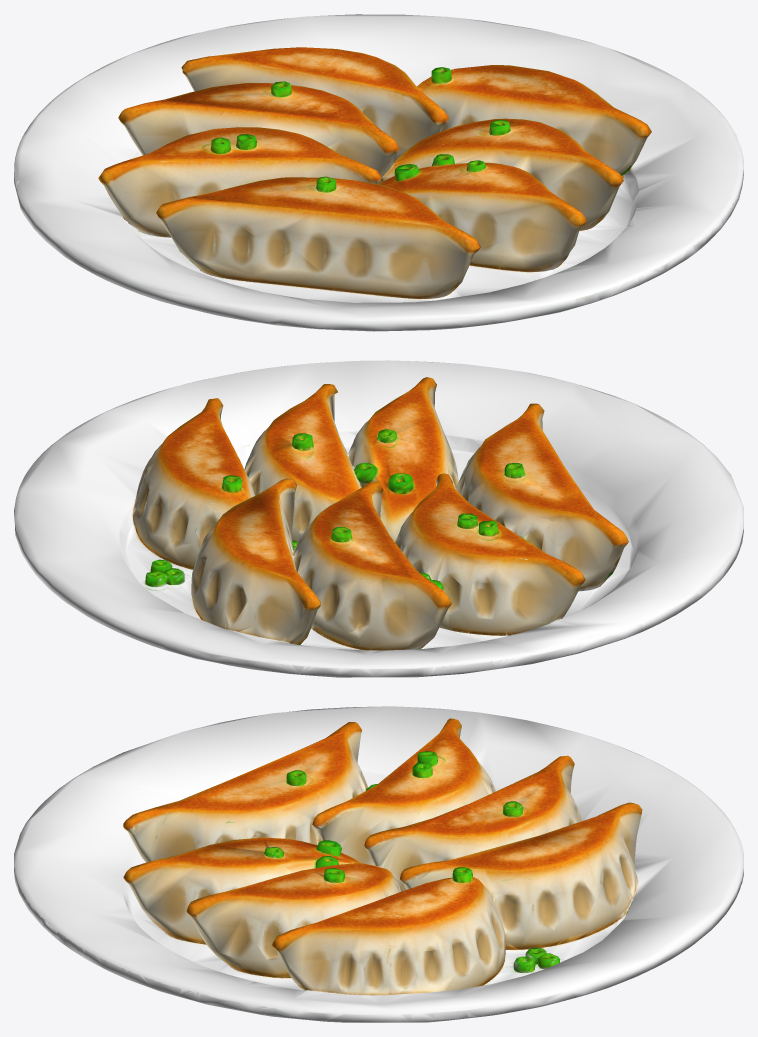
The model's file is plated-dumpling.glb.
The picture shows the model from 3 angles, top to bottom: view 1: azimuth 30°, elevation 25°; view 2: azimuth 150°, elevation 25°; view 3: azimuth 270°, elevation 25°; orthographic projection.
Parts seen in each view (by area): view 1: mesh; view 2: mesh; view 3: mesh.
Boxes of the visible parts, left/top/right/bottom form: mesh: left=14, top=14, right=743, bottom=331; mesh: left=14, top=360, right=743, bottom=677; mesh: left=14, top=706, right=743, bottom=1022.
Size of the model in its own units: 2 by 0.2678 by 2.
1 material, 1 textured.
